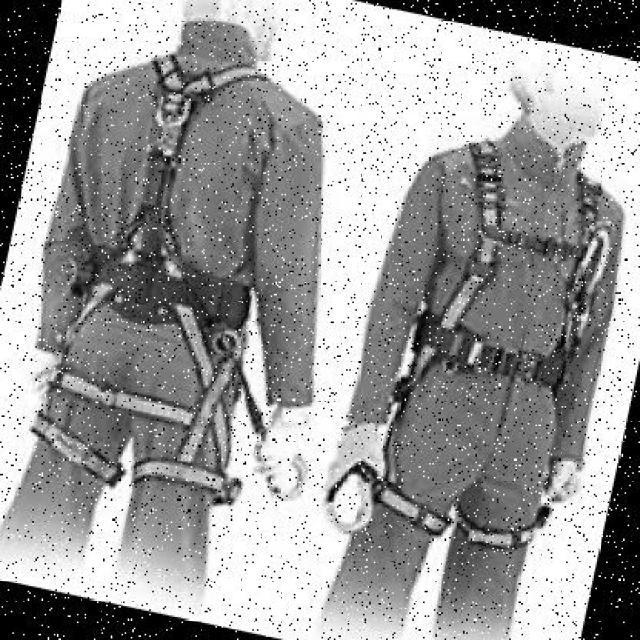Arnes_seguridad: (17, 41, 326, 512), (354, 126, 622, 560)
